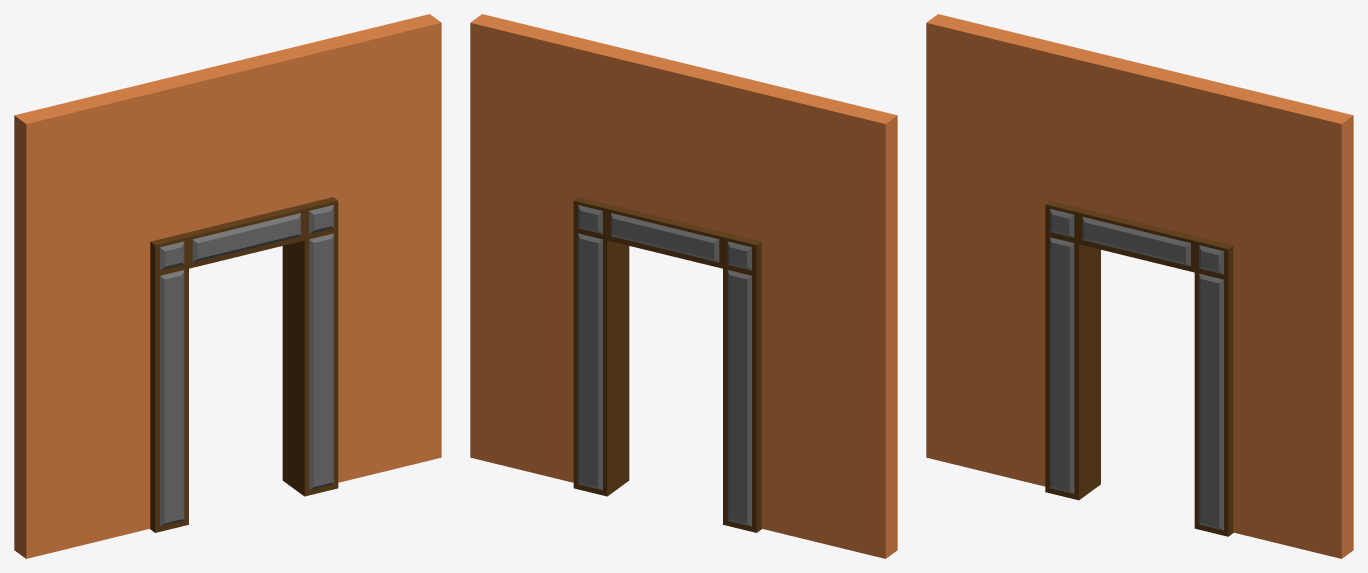
The model's file is doorFrameWithWall.fbx.
3 renders of one model, left to right at view 1: azimuth 30°, elevation 25°; view 2: azimuth 150°, elevation 25°; view 3: azimuth 330°, elevation 25°, orthographic.
Visible parts, largest first — view 1: DoorFrame; view 2: DoorFrame; view 3: DoorFrame.
Part boxes in pixels (x1,y1,x2,y2): DoorFrame: (14, 14, 441, 558); DoorFrame: (470, 14, 897, 558); DoorFrame: (926, 14, 1353, 558).
Size of the model in its own units: 400 by 41.74 by 401.
